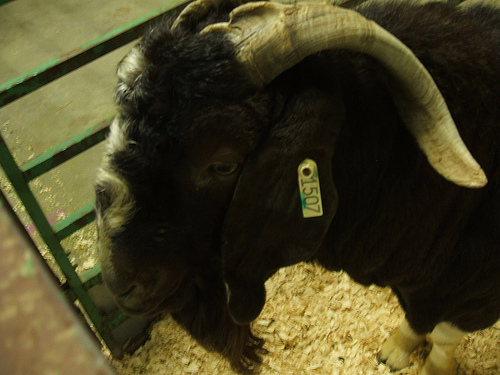goat: (96, 1, 497, 375)
